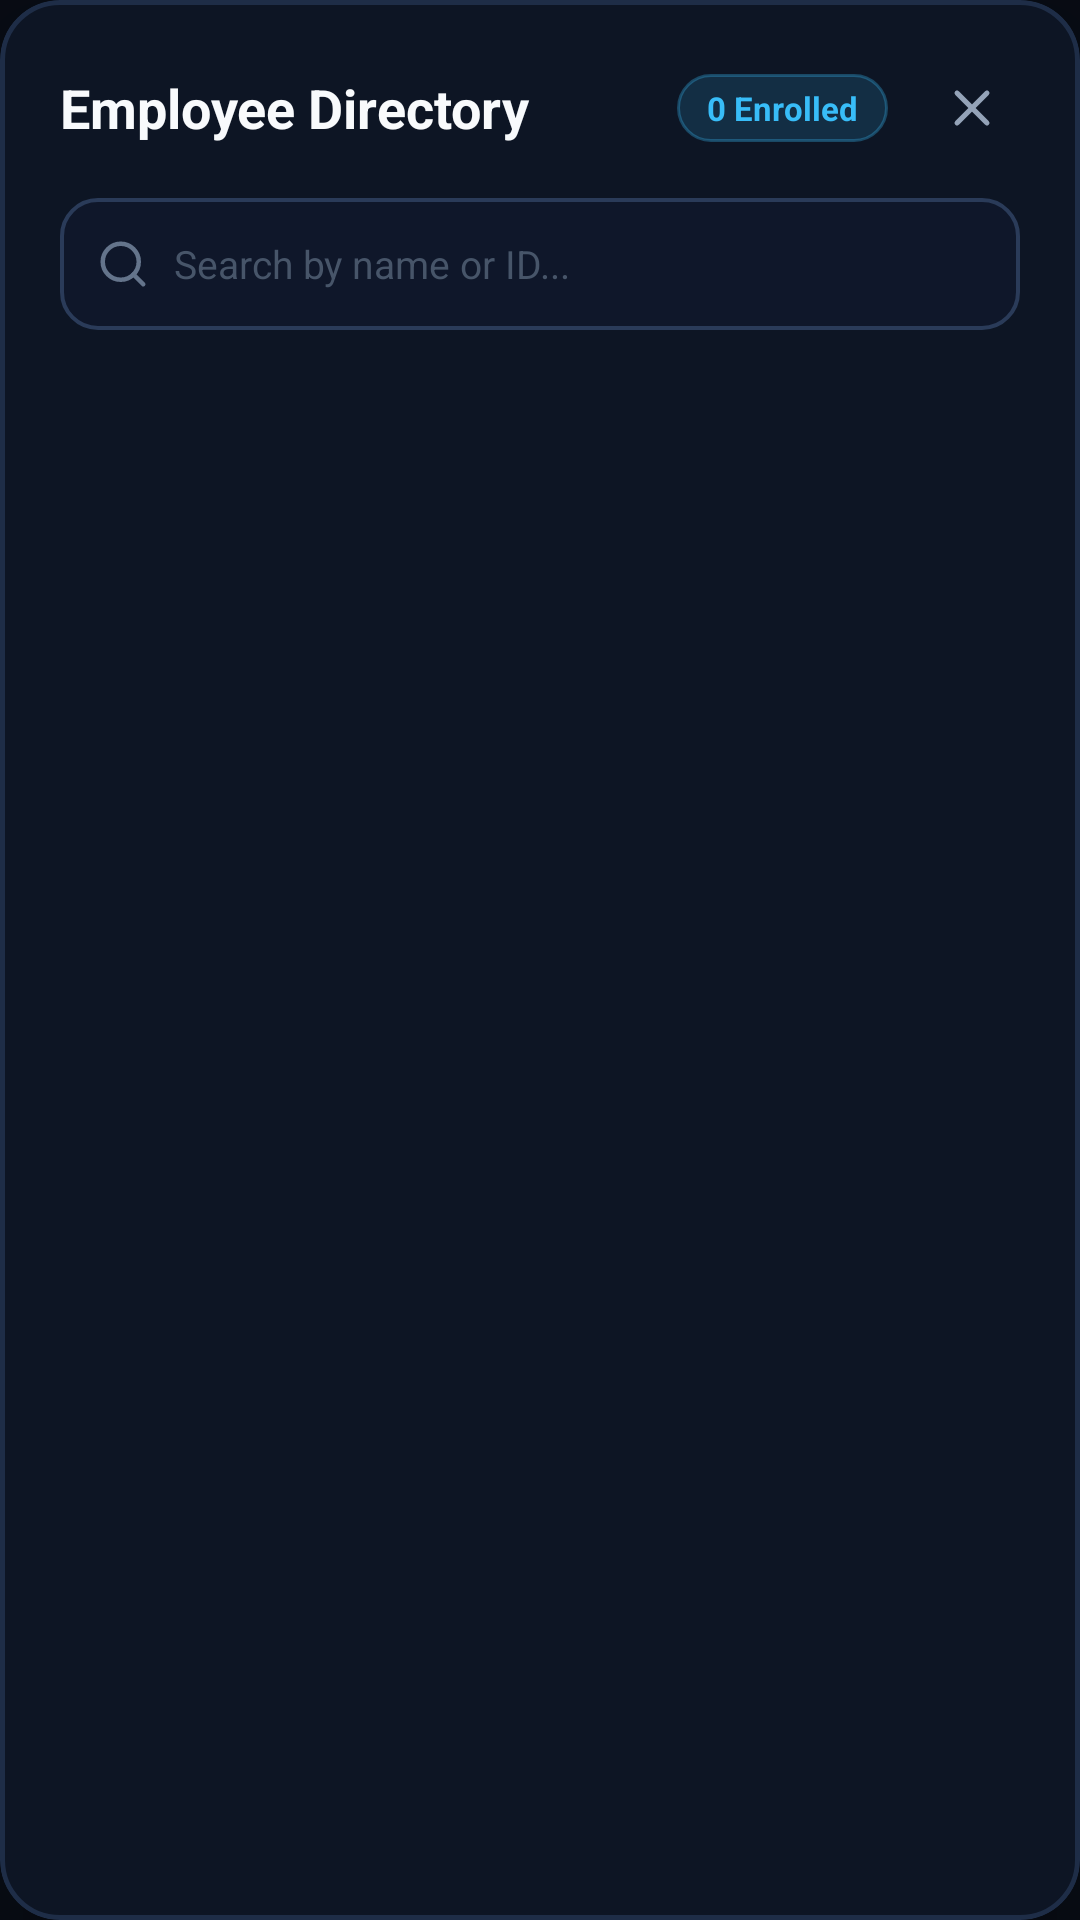

Named icons in this screenshot (1080×1920) and their bounding boxes, (left=x1, top=y1, right=x2, bottom=y2):
Close: (left=954, top=90, right=990, bottom=126)
